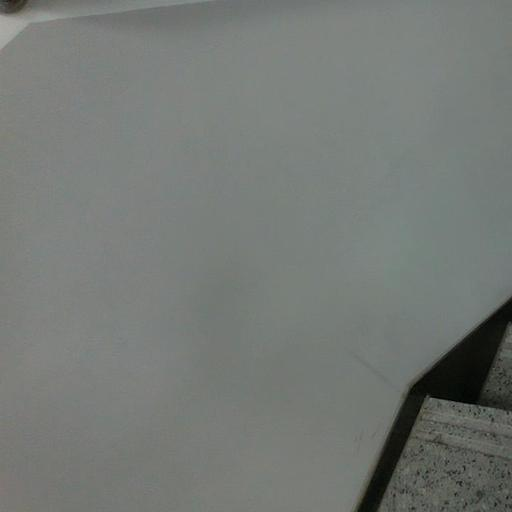stairs: (379, 326, 511, 511)
